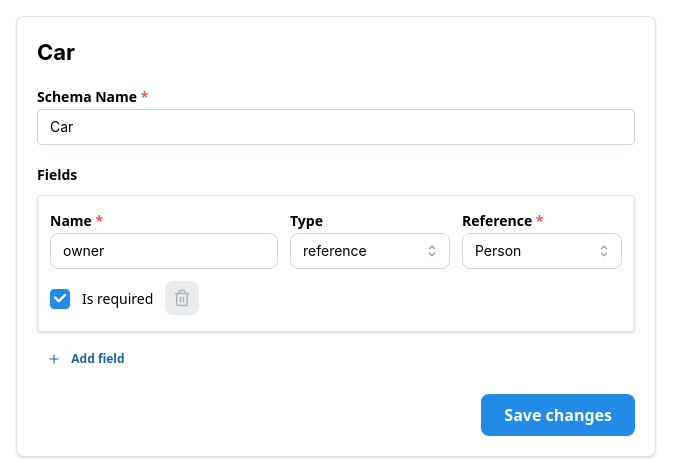
Scenario: SchemaEditor › excludes the schema being edited from its own reference target options
Click the dropdown labelled "Reference *".
click(542, 251)  # box left=462, top=233, right=622, bottom=269
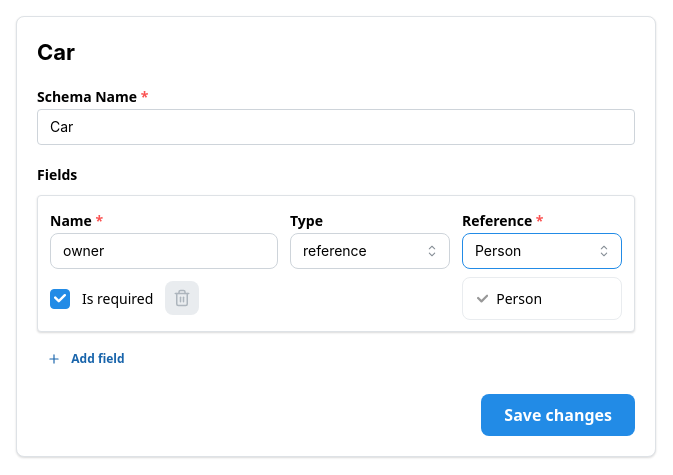
Expected: the text "Person" is shown, left=496, top=288, right=542, bottom=309
